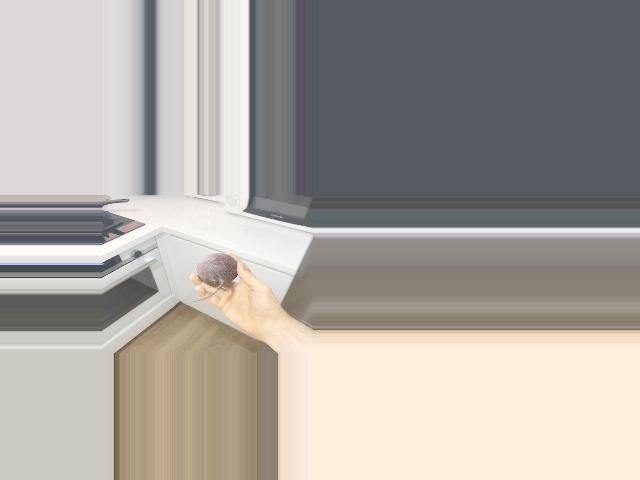beet: (192, 253, 237, 302)
